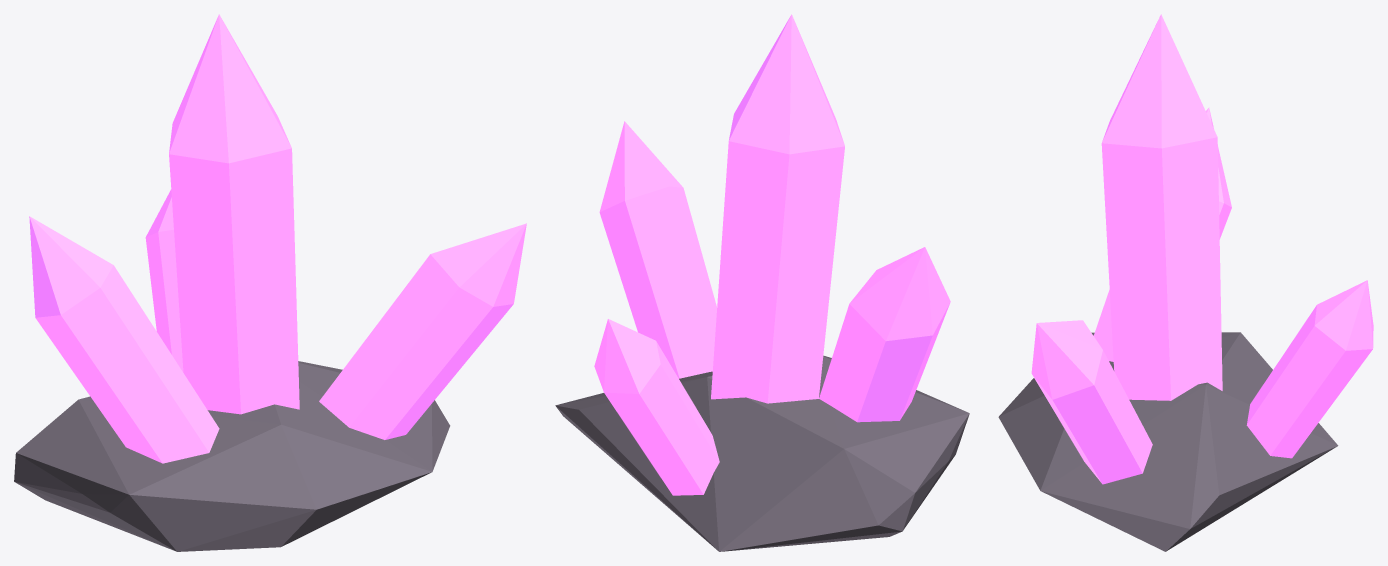
File: Crystal_ClusterSmall_Purple.glb
3 views of the same model, side by side, from view 1: azimuth 30°, elevation 25°; view 2: azimuth 150°, elevation 25°; view 3: azimuth 270°, elevation 25° (orthographic). The views are drawn at different scales.
Visible parts, largest first — view 1: Crystal_ClusterSmall_purple; view 2: Crystal_ClusterSmall_purple; view 3: Crystal_ClusterSmall_purple.
Boxes of the visible parts, x1=… form: Crystal_ClusterSmall_purple: x1=14, y1=14, x2=526, y2=551; Crystal_ClusterSmall_purple: x1=555, y1=14, x2=969, y2=551; Crystal_ClusterSmall_purple: x1=998, y1=14, x2=1373, y2=551.
Size of the model in its own units: 0.5883 by 0.6701 by 0.512.
